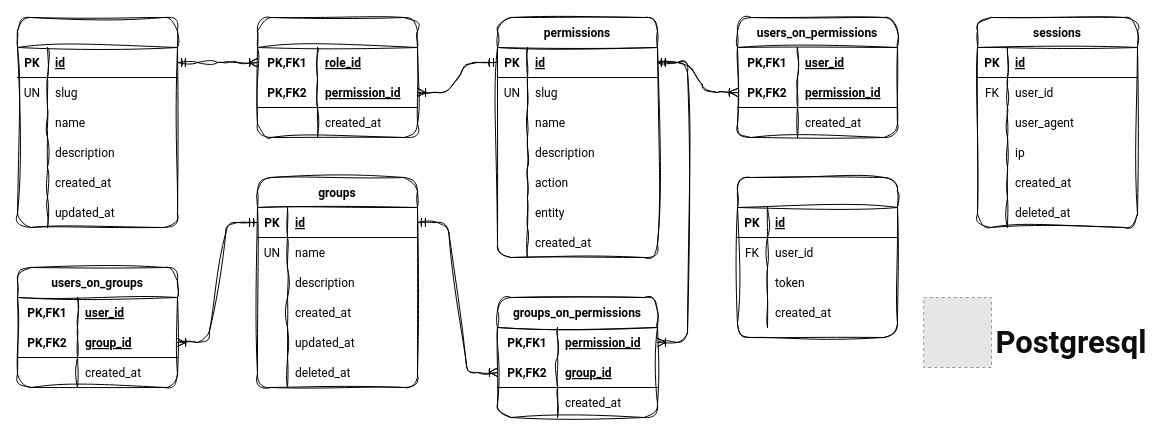
The diagram is 1169 pixels wide and 435 high, and some of its shapes have lost their labels. Grey dashed boxes stand in for pictures. The shapes that lost their labels are listed below. From the top down, each one's box as (x1, y1, x2, y2) in pixels, then its label:
(256, 16, 418, 138): roles_on_permissions
(16, 16, 178, 228): roles
(736, 176, 898, 338): reset_passwords
